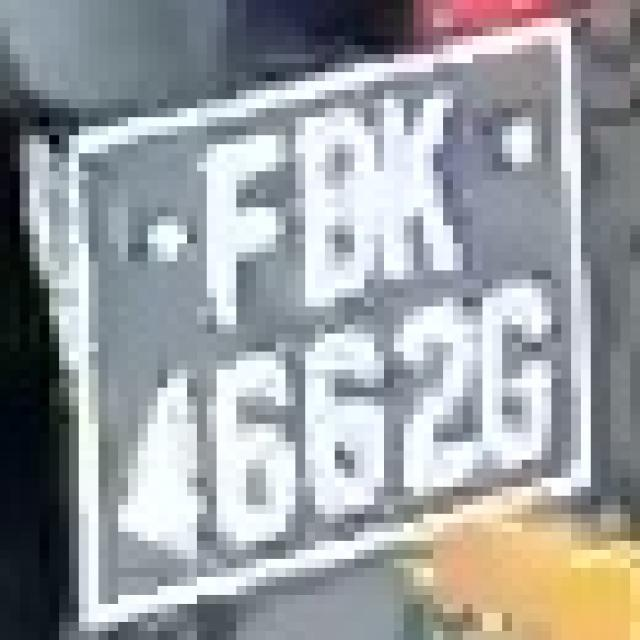2: (364, 279, 492, 487)
4: (98, 360, 226, 586)
6: (187, 333, 315, 550), (285, 297, 394, 550)
B: (285, 90, 394, 325)
F: (177, 108, 305, 325)
G: (473, 252, 571, 487)
K: (364, 45, 482, 280)
